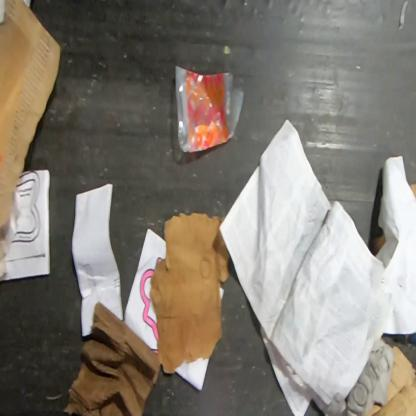cardboard: (0, 0, 62, 233), (364, 345, 415, 415), (371, 233, 385, 256), (409, 181, 415, 200)
rigid_plastic: (174, 64, 246, 154)
